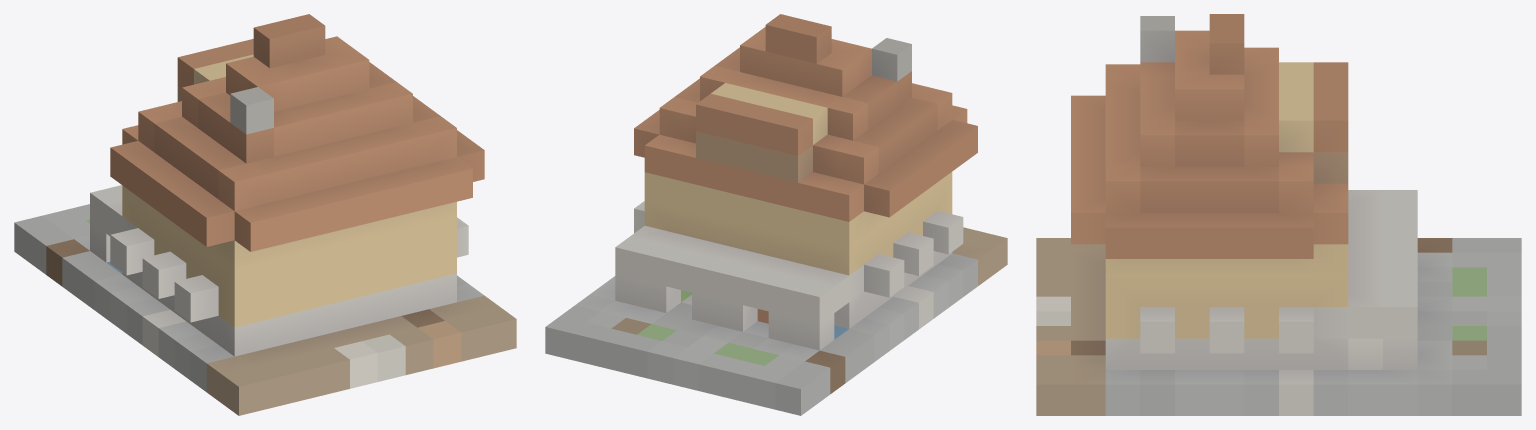
Rendered from fashion_house.lite.glb.
3 renders of one model, left to right at view 1: azimuth 30°, elevation 25°; view 2: azimuth 150°, elevation 25°; view 3: azimuth 270°, elevation 25°, orthographic. The views are drawn at different scales.
Parts seen in each view (by area): view 1: fashion_house; view 2: fashion_house; view 3: fashion_house.
Part boxes in pixels (x1,y1,x2,y2): fashion_house: [14, 14, 516, 415]; fashion_house: [545, 14, 1007, 415]; fashion_house: [1036, 14, 1521, 415].
Size of the model in its own units: 5 by 5 by 7.
